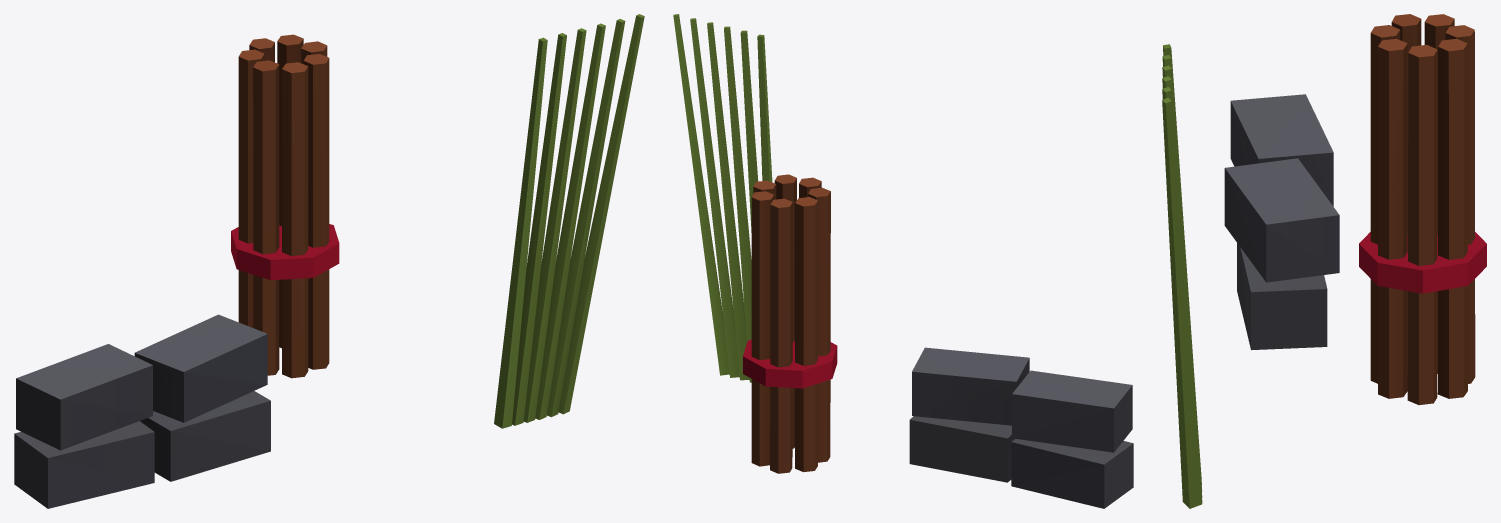
The picture shows the model from 3 angles, left to right: view 1: azimuth 30°, elevation 25°; view 2: azimuth 150°, elevation 25°; view 3: azimuth 270°, elevation 25°; orthographic projection. The views are drawn at different scales.
Visible parts, largest first — view 1: base; view 2: base; view 3: base.
Part boxes in pixels (left/top/right/bottom): base: left=14, top=14, right=644, bottom=508; base: left=673, top=14, right=1133, bottom=508; base: left=1162, top=14, right=1486, bottom=508.
Bounding box in the file's own units: 0.5836 × 0.3823 × 0.2539.
